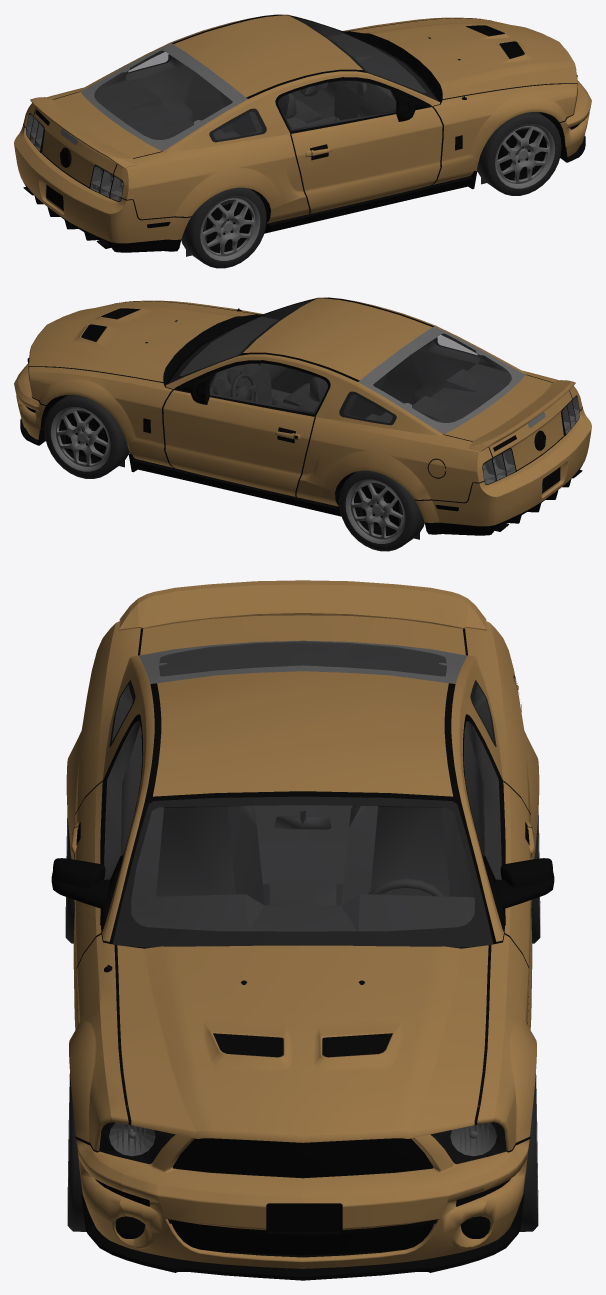
Rendered from mustang_triang.obj.
3 views of the same model, one above another, from view 1: azimuth 30°, elevation 25°; view 2: azimuth 150°, elevation 25°; view 3: azimuth 270°, elevation 25° (orthographic). The views are drawn at different scales.
Visible parts, largest first — view 1: Body_Body_paint, Interior_Interior, WindFR_Material_#616, Roof_Body_paint, DoorR_Body_paint, Hood_Carbo_Body_paint, BumperR_Body_paint, Base_Body_paint, WindR_Material_#599, TireRR_Material_#595, TireFR_Tire, TireFR_Material_#595 (+21 smaller); view 2: Body_Body_paint, Interior_Interior, WindFR_Material_#616, Roof_Body_paint, DoorL_Body_paint, Hood_Carbo_Body_paint, BumperR_Body_paint, Base_Body_paint, WindR_Material_#599, TireRL_Material_#595, TireFL_Tire, TireFL_Material_#595 (+21 smaller); view 3: Hood_Carbo_Body_paint, Interior_Interior, WindFR_Material_#616, Roof_Body_paint, BumperF_Body_paint, Body_Body_paint, BumperF_Badging_Chrom, Spoiler_Body_paint, WindF_Material_#597, Base_Body_paint, BumperF_Misc_Chrome2, Roof_Misc6 (+18 smaller).
Part boxes in pixels (box(x1,y1,x2,y2)): Body_Body_paint: box(23, 17, 577, 219); Interior_Interior: box(94, 17, 426, 139); WindFR_Material_#616: box(94, 19, 425, 139); Roof_Body_paint: box(79, 14, 440, 152); DoorR_Body_paint: box(291, 107, 442, 213); Hood_Carbo_Body_paint: box(351, 18, 577, 98); BumperR_Body_paint: box(14, 125, 190, 243); Base_Body_paint: box(33, 92, 161, 186); WindR_Material_#599: box(80, 43, 247, 151); TireRR_Material_#595: box(200, 196, 260, 260); TireFR_Tire: box(476, 112, 561, 195); TireFR_Material_#595: box(495, 124, 555, 188); Body_Body_paint: box(28, 300, 582, 502); Interior_Interior: box(179, 300, 511, 422); WindFR_Material_#616: box(180, 302, 511, 422); Roof_Body_paint: box(165, 297, 526, 435); DoorL_Body_paint: box(163, 390, 314, 496); Hood_Carbo_Body_paint: box(28, 301, 254, 381); BumperR_Body_paint: box(415, 408, 591, 526); Base_Body_paint: box(444, 375, 572, 469); WindR_Material_#599: box(358, 326, 525, 434); TireRL_Material_#595: box(345, 479, 405, 543); TireFL_Tire: box(44, 395, 129, 478); TireFL_Material_#595: box(50, 406, 110, 471); Hood_Carbo_Body_paint: box(117, 945, 488, 1142); Interior_Interior: box(104, 641, 501, 931); WindFR_Material_#616: box(104, 642, 501, 931); Roof_Body_paint: box(101, 655, 504, 941); BumperF_Body_paint: box(76, 1134, 529, 1268); Body_Body_paint: box(66, 621, 539, 1151); BumperF_Badging_Chrom: box(172, 1138, 433, 1255); Spoiler_Body_paint: box(118, 580, 487, 630); WindF_Material_#597: box(113, 796, 492, 947); Base_Body_paint: box(140, 615, 465, 655); BumperF_Misc_Chrome2: box(81, 1179, 524, 1280); Roof_Misc6: box(109, 683, 496, 944).
Bounding box in the file's own units: 8.33 × 2.37 × 3.5.
